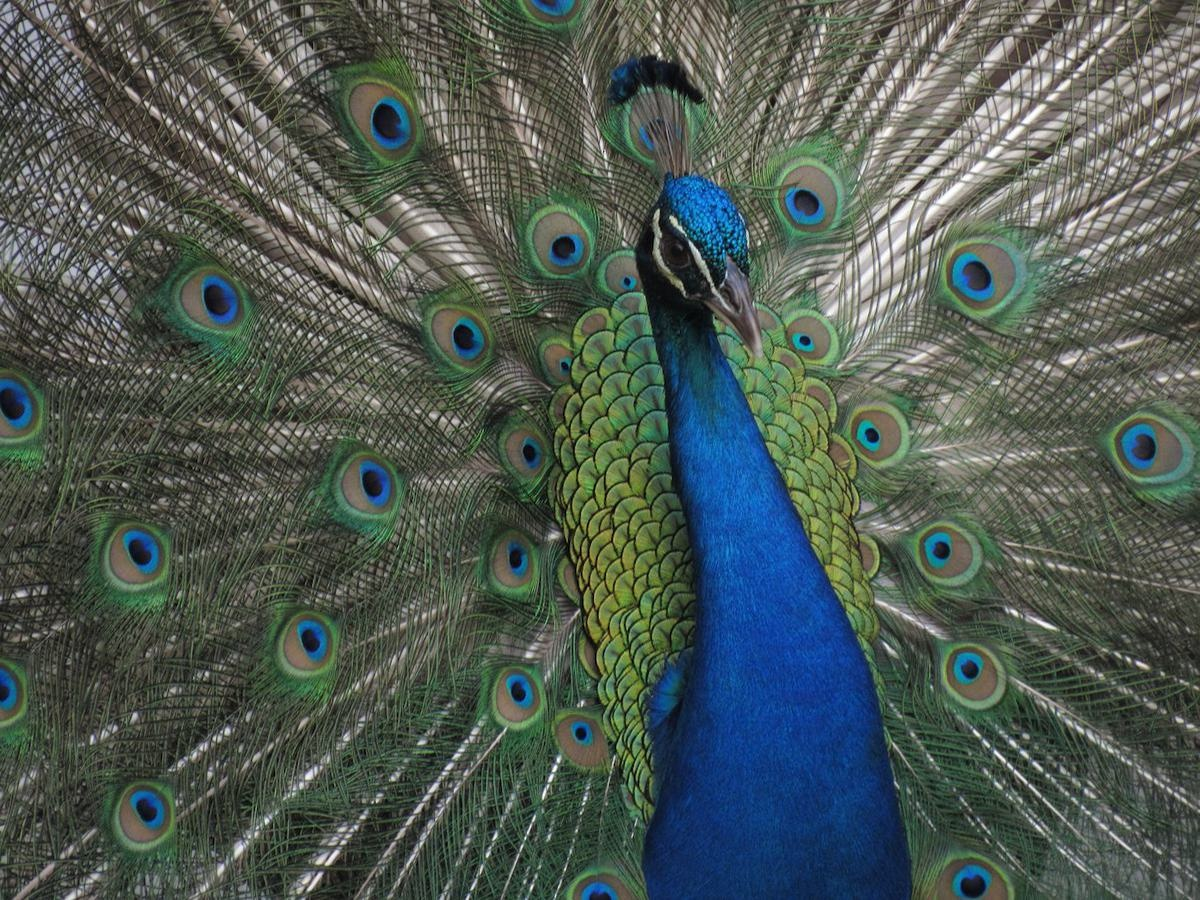peacock: (28, 24, 1088, 900)
